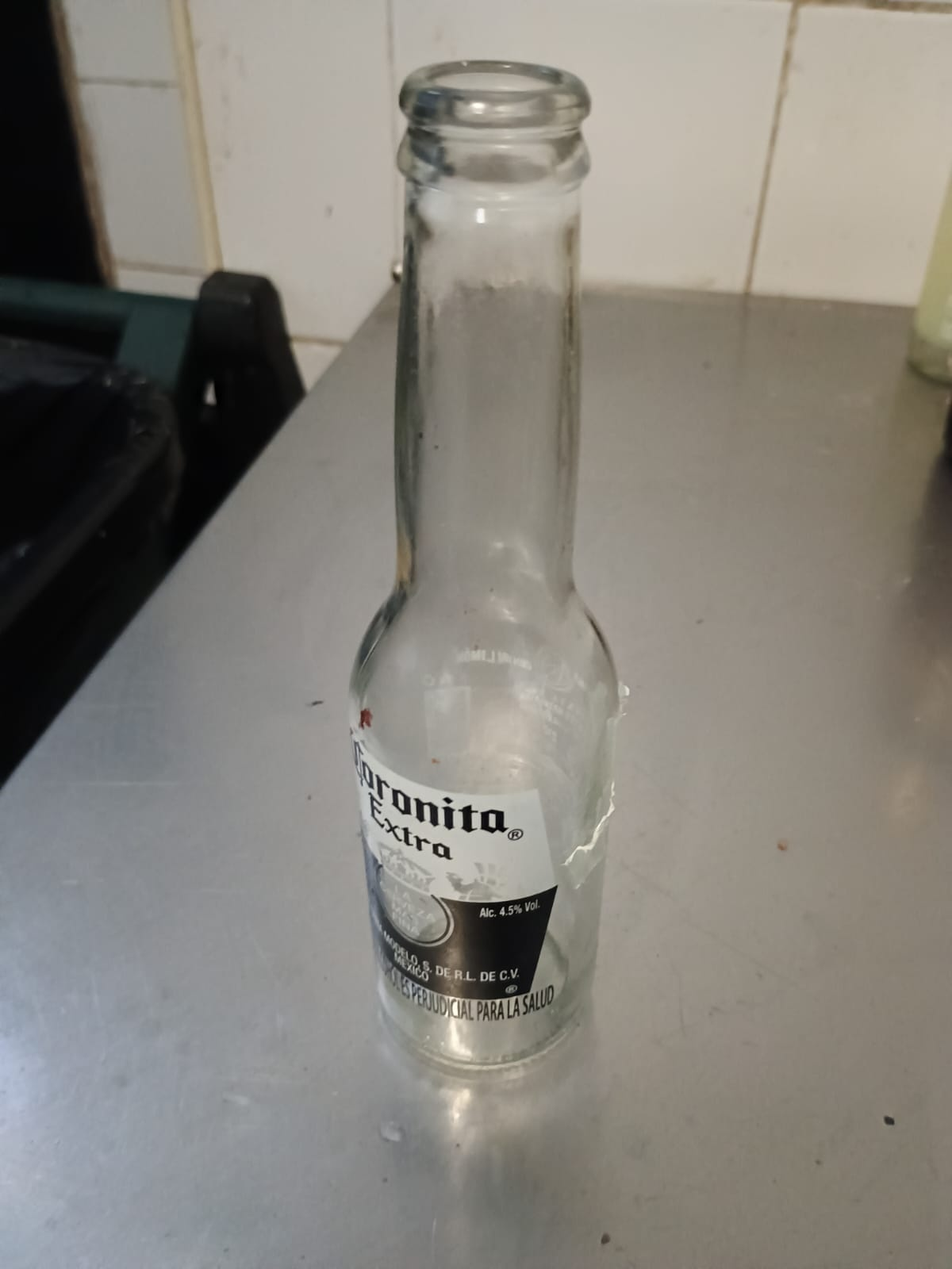Vidrio: (347, 62, 618, 1080)
